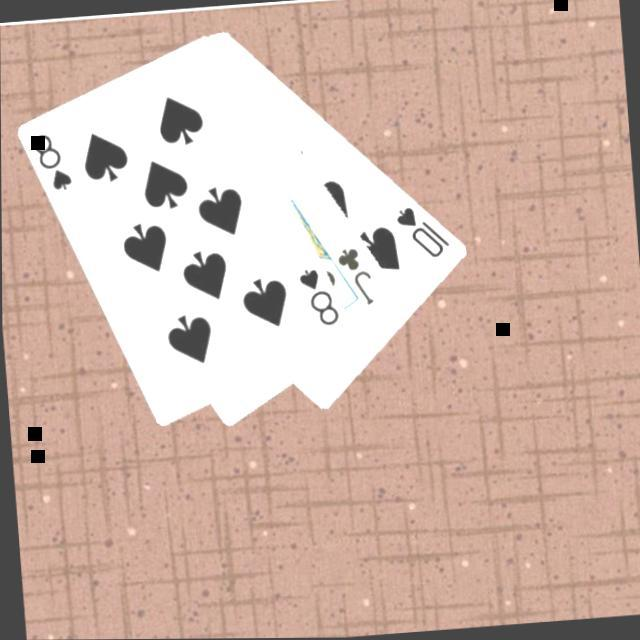10S: (394, 198, 456, 262)
8S: (29, 125, 78, 194), (296, 260, 344, 330)
JC: (333, 240, 380, 309)
